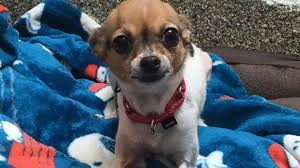Chihuahua: (69, 1, 257, 168)
